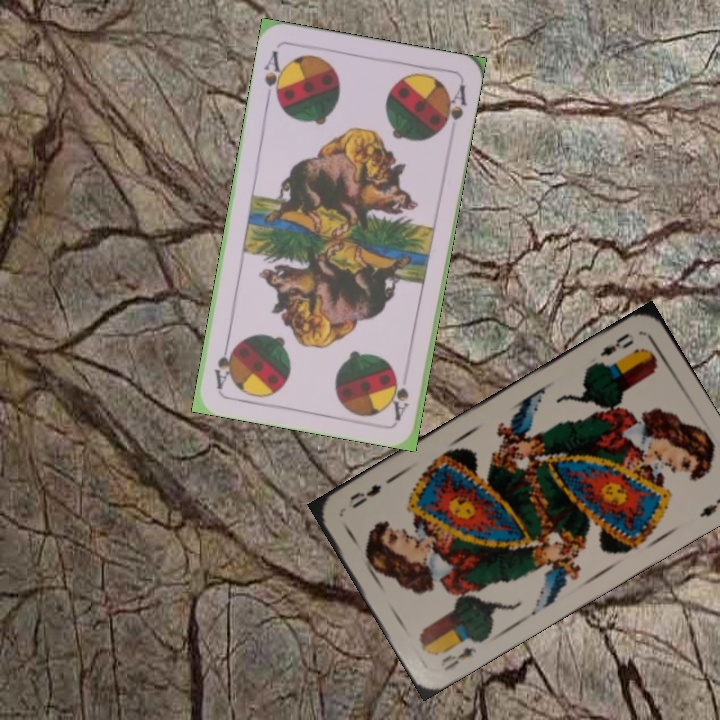EO: (590, 329, 637, 368), (436, 643, 480, 674)
SA: (259, 46, 288, 106), (388, 372, 412, 422)
